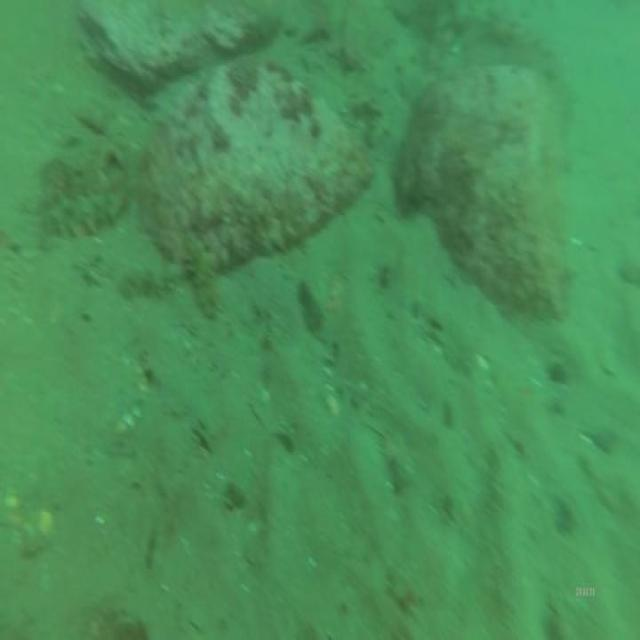holothurian: (45, 185, 127, 243), (181, 228, 223, 324)
